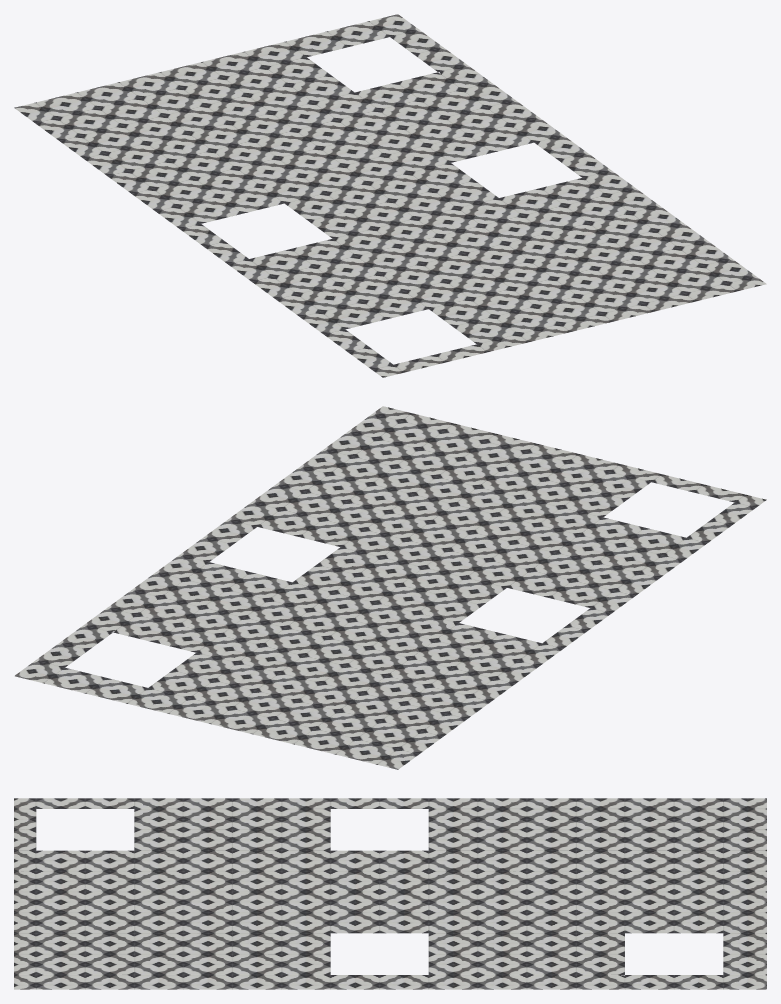
Rendered from ExportLibrarySpecialWall_01.FBX.
3 views of the same model, one above another, from view 1: azimuth 30°, elevation 25°; view 2: azimuth 150°, elevation 25°; view 3: azimuth 270°, elevation 25° (orthographic). The views are drawn at different scales.
Parts seen in each view (by area): view 1: lib_partition_wall; view 2: lib_partition_wall; view 3: lib_partition_wall.
Boxes of the visible parts, box(x1,y1,x2,y2) form: lib_partition_wall: box(14, 14, 766, 377); lib_partition_wall: box(14, 406, 766, 769); lib_partition_wall: box(14, 798, 766, 989).
Bounding box in the file's own units: 295 × 490 × 9.11e-05.
